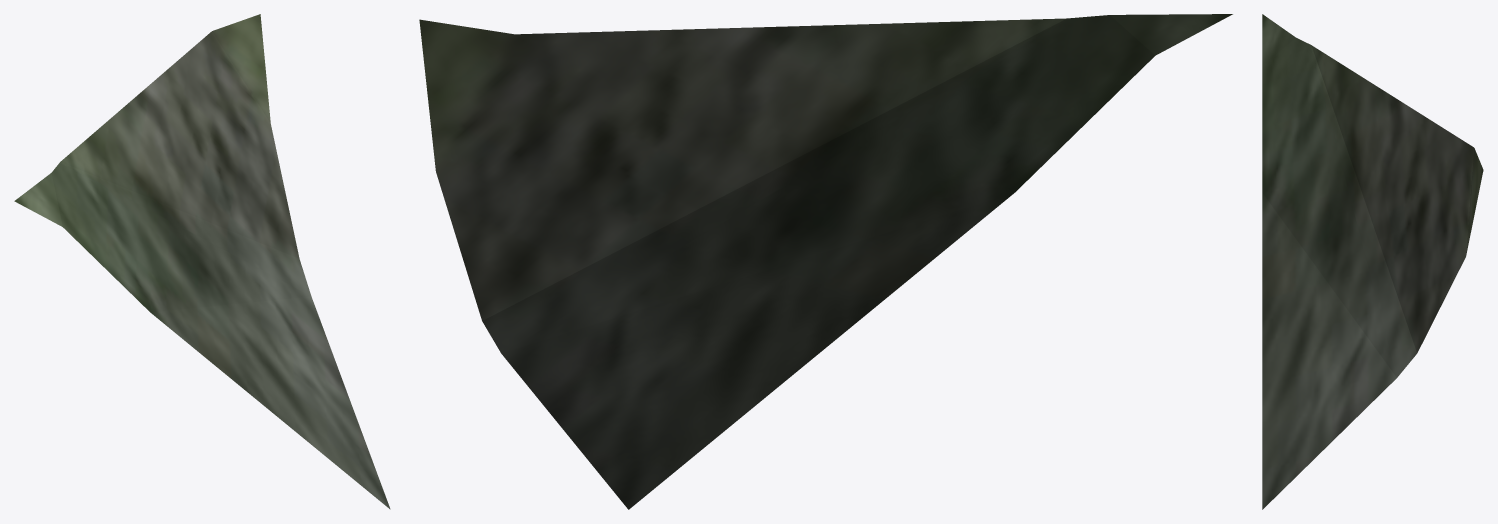
The picture shows the model from 3 angles, left to right: view 1: azimuth 30°, elevation 25°; view 2: azimuth 150°, elevation 25°; view 3: azimuth 270°, elevation 25°; orthographic projection. The views are drawn at different scales.
Size of the model in its own units: 1.47 by 1.49 by 0.8792.
1 material, 1 textured.
